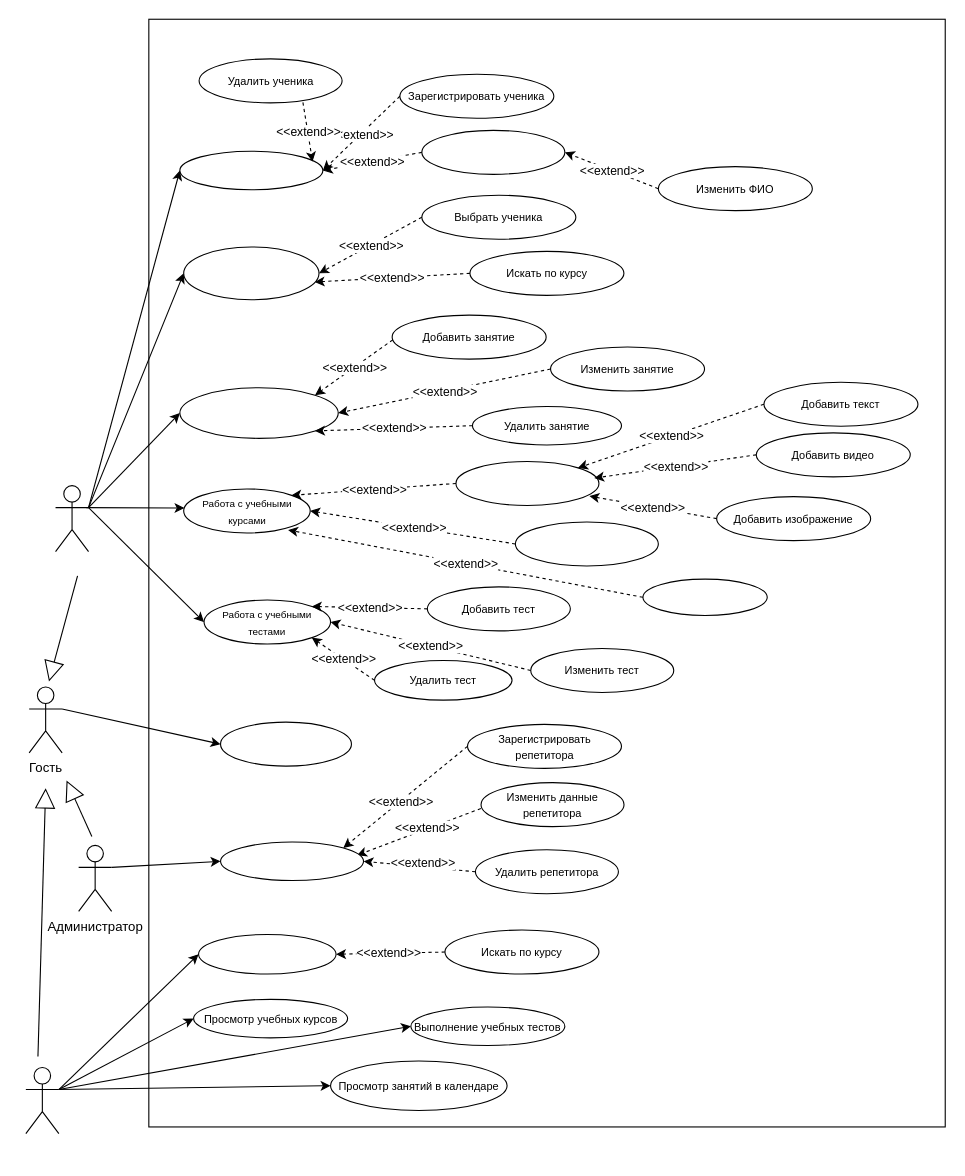
This 965x1176 diagram has some shape labels left out. The centre of each missing label's shape, as x and y in pixels:
"Авторизация" goes at pixel 285 743.
"Добавить курс" goes at pixel 527 482.
"Изменить данные ученика" goes at pixel 493 151.
"Изменить курс" goes at pixel 586 543.
"Остлеживание результатов учеников" goes at pixel 251 273.
"Просмотреть прогресс" goes at pixel 266 953.
"Репетитор" goes at pixel 71 518.
"Удалить курс" goes at pixel 704 596.
"Управление занятиями в календаре" goes at pixel 258 412.
"Управление репетиторами" goes at pixel 291 861.
"Управление учениками" goes at pixel 251 170.
"Ученик" goes at pixel 42 1100.
